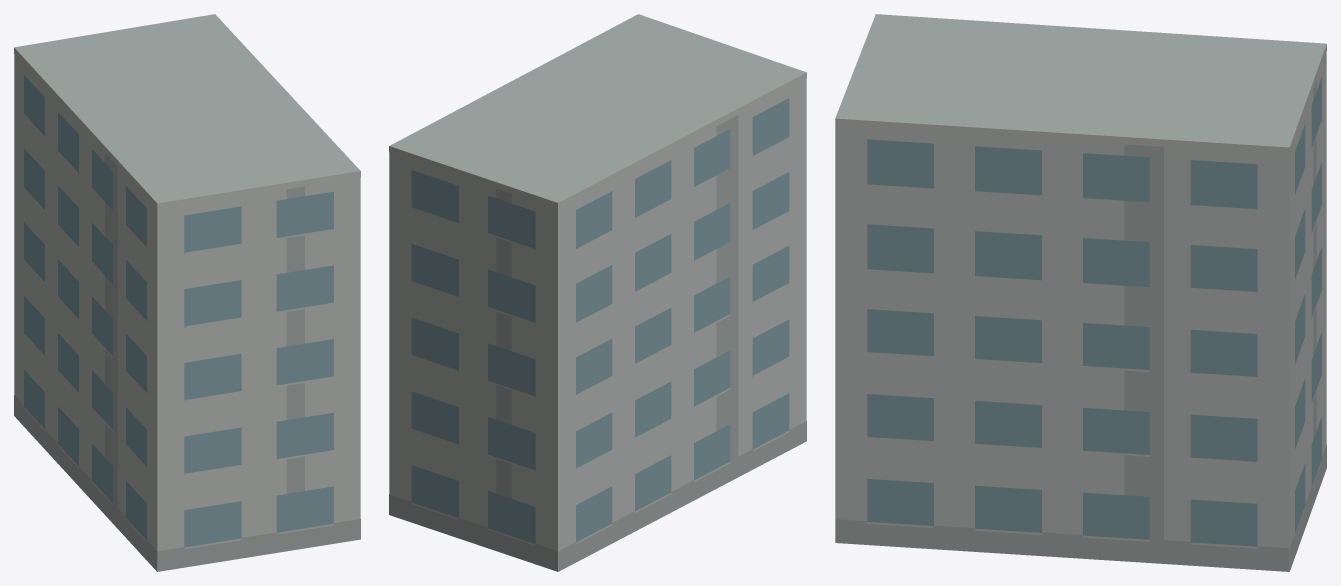
Rendered from survey-upis-32806004.glb.
The picture shows the model from 3 angles, left to right: view 1: azimuth 30°, elevation 25°; view 2: azimuth 150°, elevation 25°; view 3: azimuth 270°, elevation 25°; orthographic projection. The views are drawn at different scales.
Visible parts, largest first — view 1: survey-upis-32806004.tmp; view 2: survey-upis-32806004.tmp; view 3: survey-upis-32806004.tmp.
Boxes of the visible parts, left/top/right/bottom form: survey-upis-32806004.tmp: left=14, top=14, right=360, bottom=571; survey-upis-32806004.tmp: left=389, top=14, right=806, bottom=571; survey-upis-32806004.tmp: left=835, top=14, right=1326, bottom=571.
Bounding box in the file's own units: 9.45 × 14 × 14.71.
